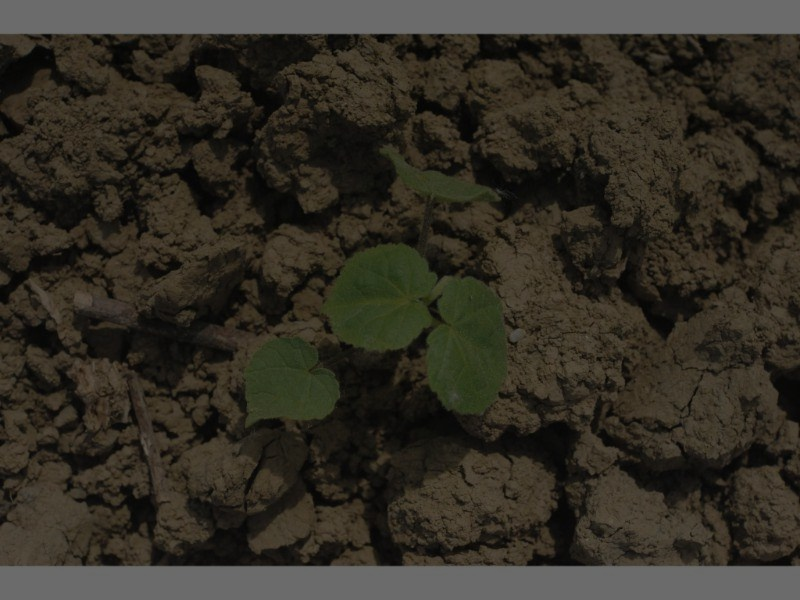velvet: (242, 148, 508, 433)
